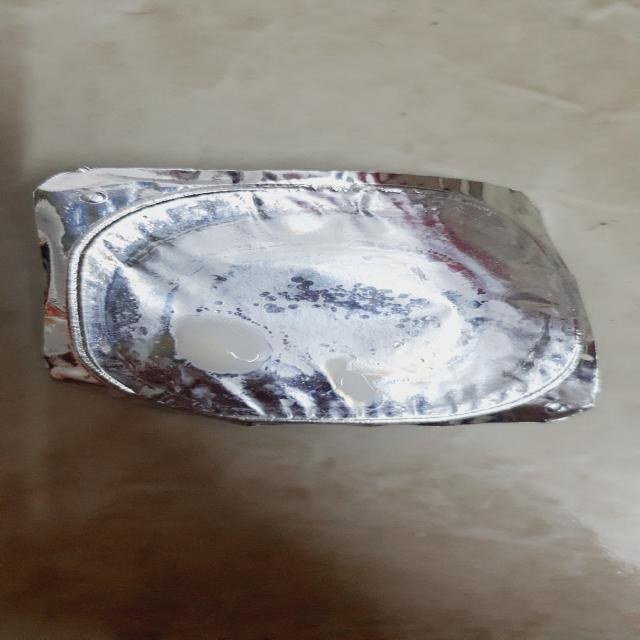Metal: (33, 166, 599, 427)
